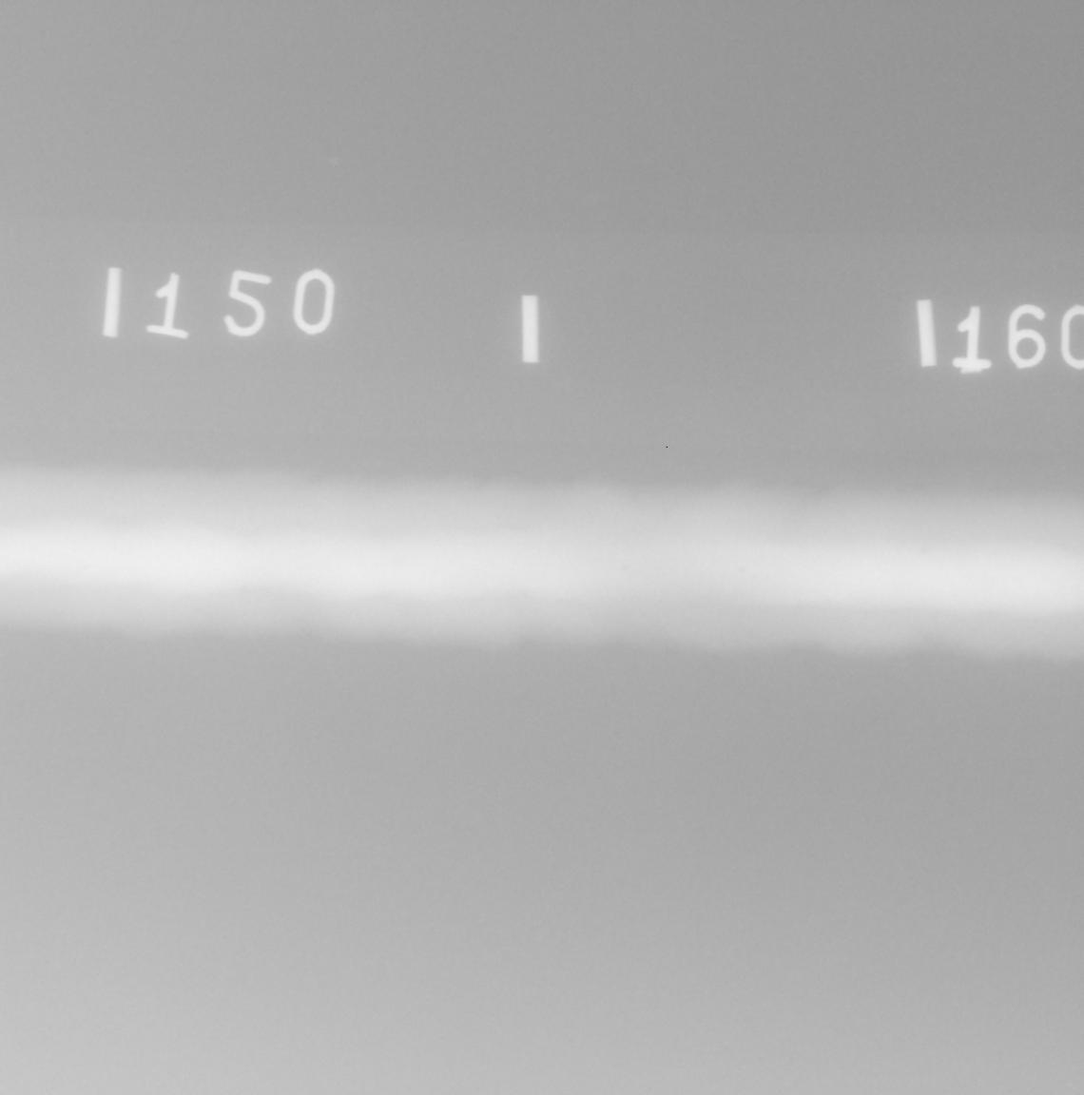Pore/Porosity: (738, 564, 748, 573), (923, 544, 932, 553), (621, 565, 630, 572), (751, 574, 755, 578)
